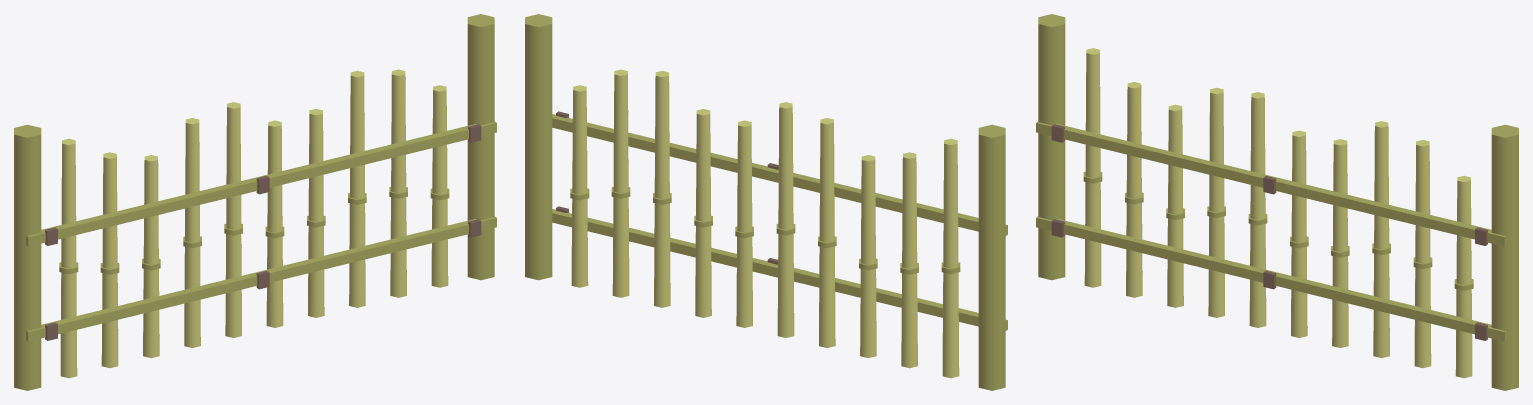
Rendered from prop_tc_hang_rao_tre.e98a9a8bea.glb.
3 renders of one model, left to right at view 1: azimuth 30°, elevation 25°; view 2: azimuth 150°, elevation 25°; view 3: azimuth 330°, elevation 25°, orthographic.
Parts seen in each view (by area): view 1: prop_tc_hang_rao_tre; view 2: prop_tc_hang_rao_tre; view 3: prop_tc_hang_rao_tre.
Part boxes in pixels (left/top/right/bottom): prop_tc_hang_rao_tre: left=14, top=14, right=496, bottom=390; prop_tc_hang_rao_tre: left=525, top=14, right=1007, bottom=390; prop_tc_hang_rao_tre: left=1036, top=14, right=1518, bottom=390.
Size of what is drawn, in the model's own units: 3.18 by 1.6 by 0.1929.
